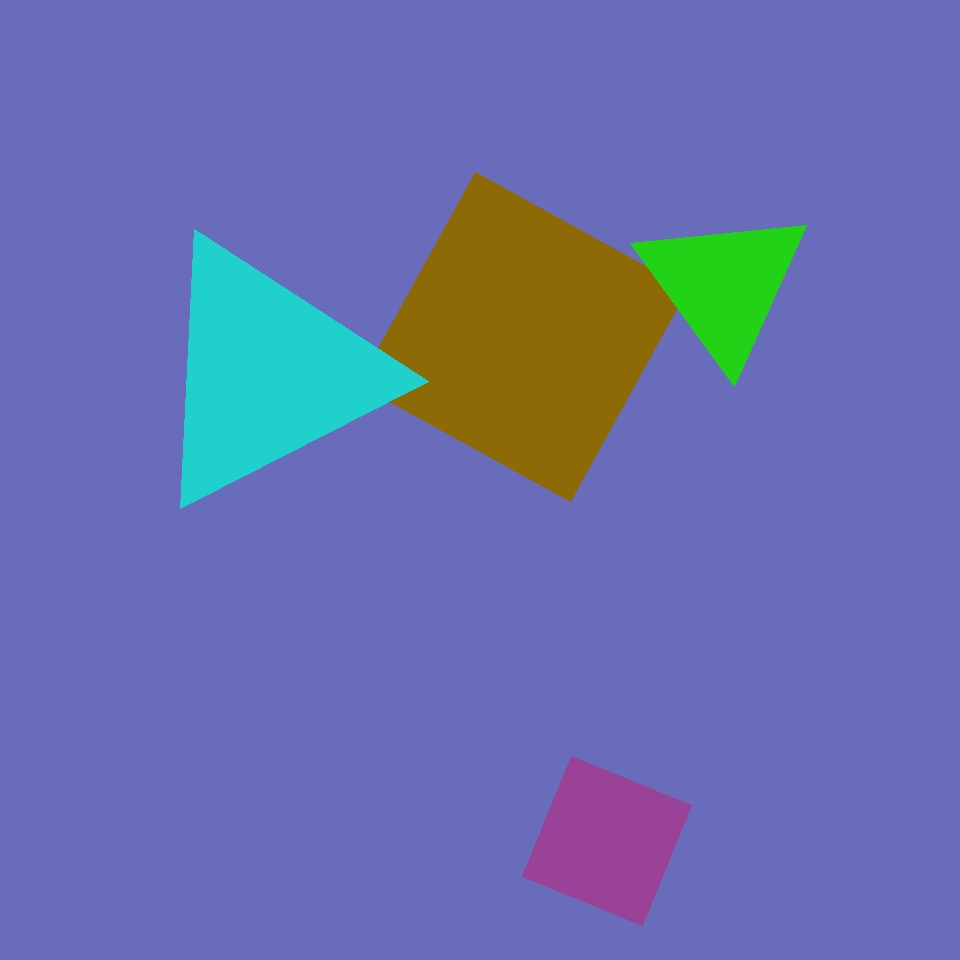circle: (144, 234, 392, 513), (662, 61, 908, 280), (636, 204, 812, 366)
square: (358, 172, 688, 501), (709, 183, 911, 385), (522, 756, 692, 926)
